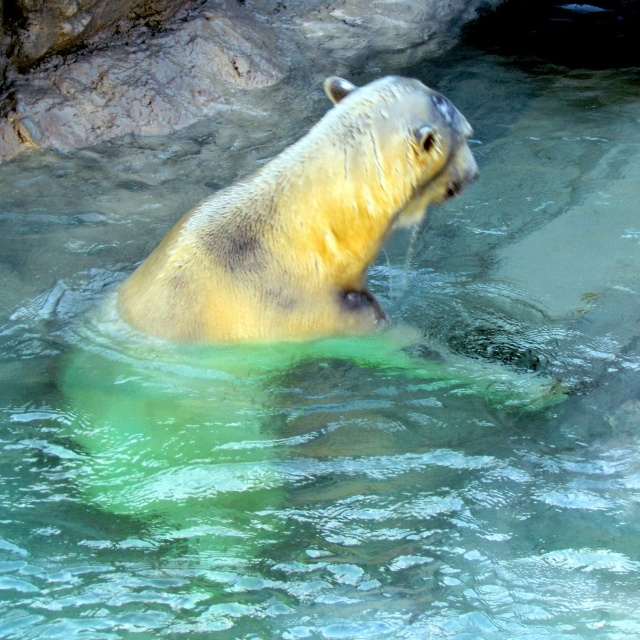Polar bear: (58, 73, 572, 564)
